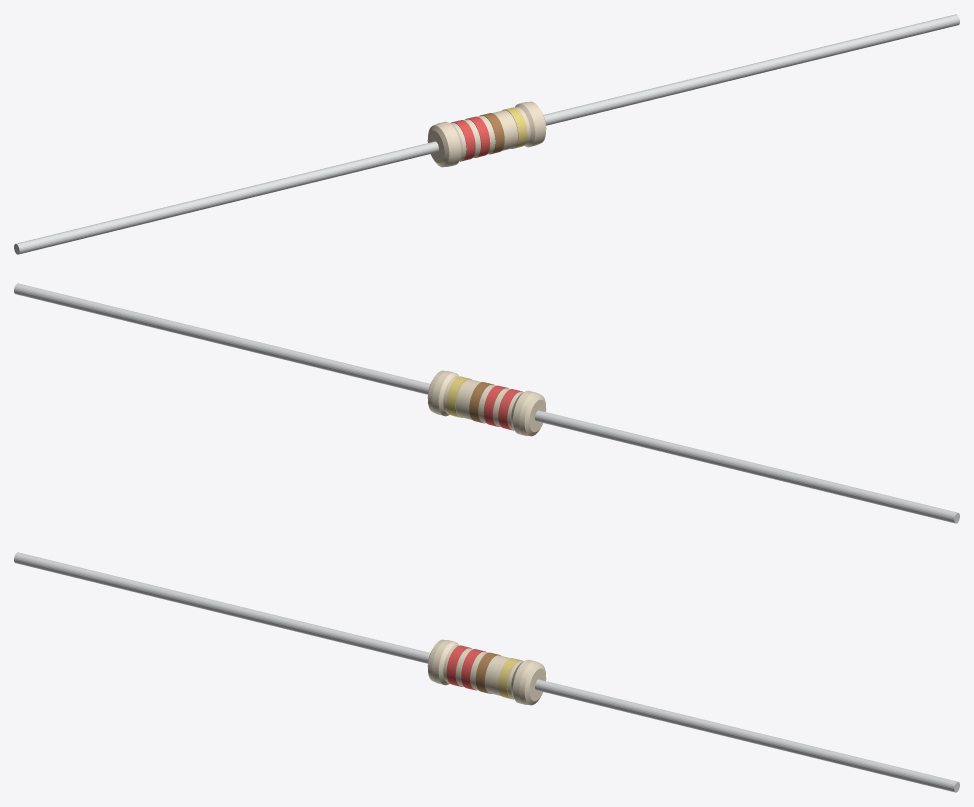
Rendered from resistencia.glb.
3 renders of one model, top to bottom at view 1: azimuth 30°, elevation 25°; view 2: azimuth 150°, elevation 25°; view 3: azimuth 330°, elevation 25°, orthographic.
Parts seen in each view (by area): view 1: Lead_Tin, Body_Beige, Band_Red; view 2: Lead_Tin, Body_Beige, Band_Red; view 3: Lead_Tin, Body_Beige, Band_Red.
Boxes of the visible parts, <box> form: Lead_Tin: <box>14,14,959,254</box>; Body_Beige: <box>427,101,546,167</box>; Band_Red: <box>450,116,490,161</box>; Lead_Tin: <box>14,283,959,523</box>; Body_Beige: <box>427,370,546,436</box>; Band_Red: <box>483,385,523,430</box>; Lead_Tin: <box>14,552,959,792</box>; Body_Beige: <box>427,639,546,705</box>; Band_Red: <box>446,645,485,690</box>.
Bounding box in the file's own units: 0.0583 × 0.0024 × 0.0024.
